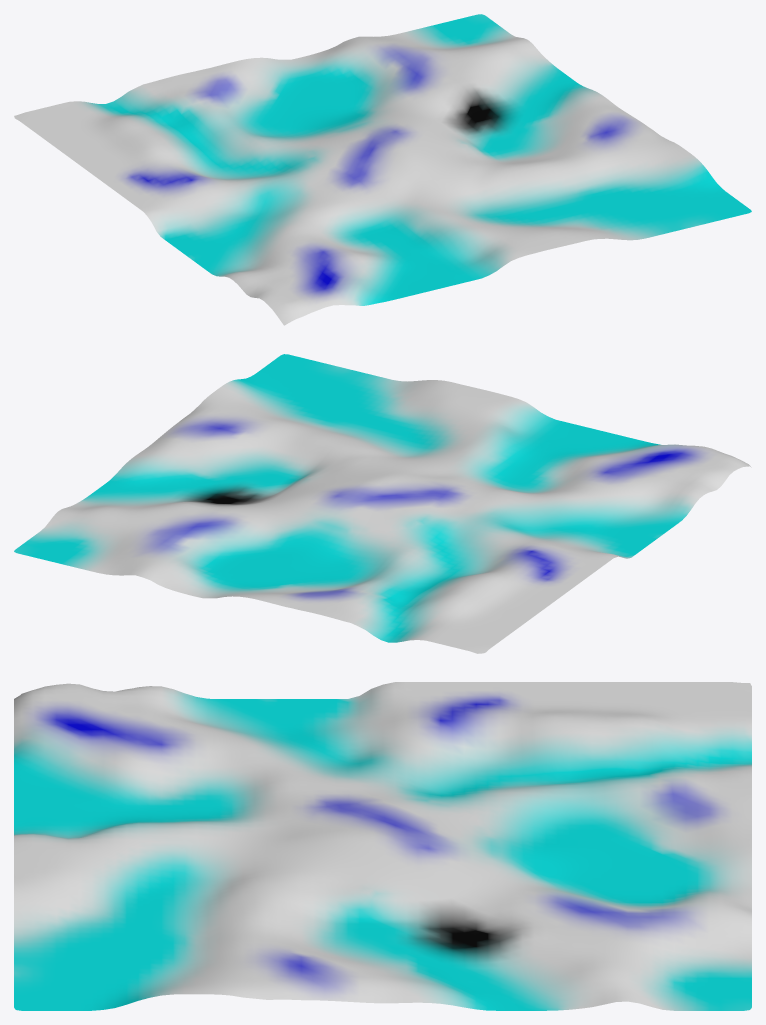
Rendered from landscape_00.gltf.
3 renders of one model, top to bottom at view 1: azimuth 30°, elevation 25°; view 2: azimuth 150°, elevation 25°; view 3: azimuth 270°, elevation 25°, orthographic. The views are drawn at different scales.
Parts seen in each view (by area): view 1: landscape_00; view 2: landscape_00; view 3: landscape_00.
Part boxes in pixels (box(x1,y1,x2,y2)): landscape_00: box(14, 14, 751, 325); landscape_00: box(14, 354, 751, 653); landscape_00: box(14, 682, 751, 1010).
Size of the model in its own units: 91.52 by 3.88 by 91.52.
